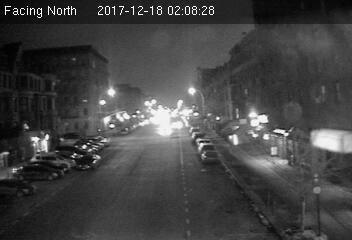car: (76, 154, 101, 169), (201, 150, 221, 165)
